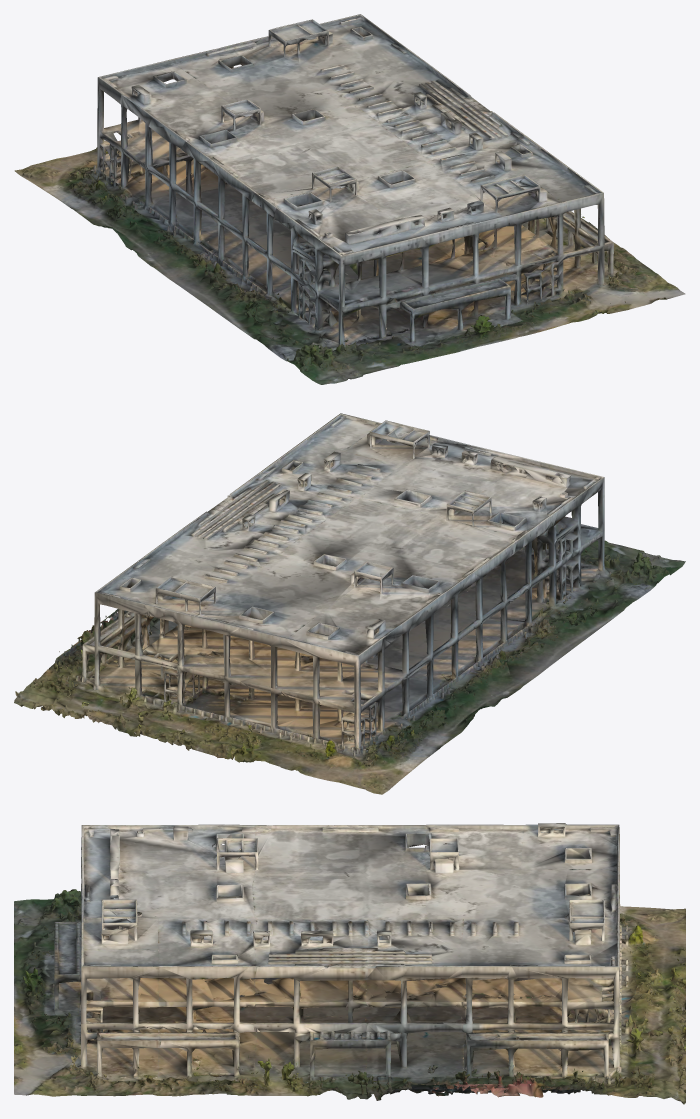
The model's file is site.glb.
3 renders of one model, top to bottom at view 1: azimuth 30°, elevation 25°; view 2: azimuth 150°, elevation 25°; view 3: azimuth 270°, elevation 25°, orthographic. The views are drawn at different scales.
Parts seen in each view (by area): view 1: Object_2; view 2: Object_2; view 3: Object_2.
Part boxes in pixels (box(x1,y1,x2,y2)): Object_2: box(14, 14, 685, 384); Object_2: box(14, 413, 685, 794); Object_2: box(14, 823, 685, 1104).
Size of the model in its own units: 174 by 64.5 by 251.
Materials: 1 (1 with a texture image).
